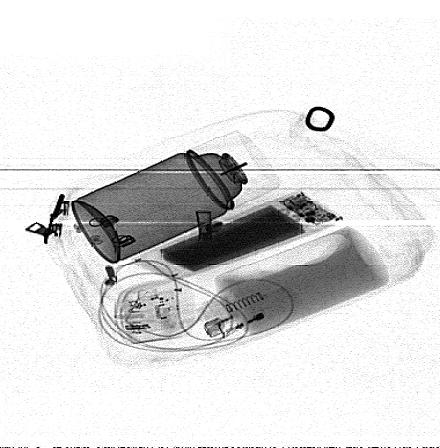Lighter: (203, 285, 302, 338)
Powerbank: (131, 188, 349, 282)
Sprayer: (71, 130, 281, 263)
